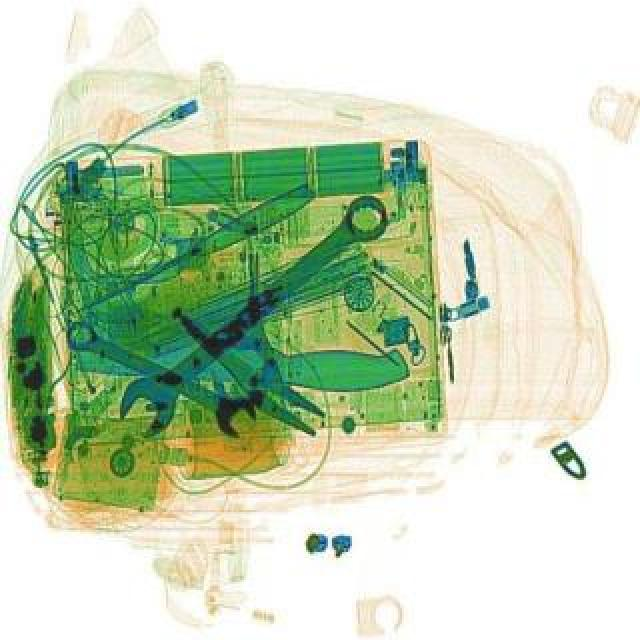knife: (62, 178, 318, 322), (74, 284, 410, 390)
scissors: (104, 180, 404, 442), (52, 306, 264, 438)
